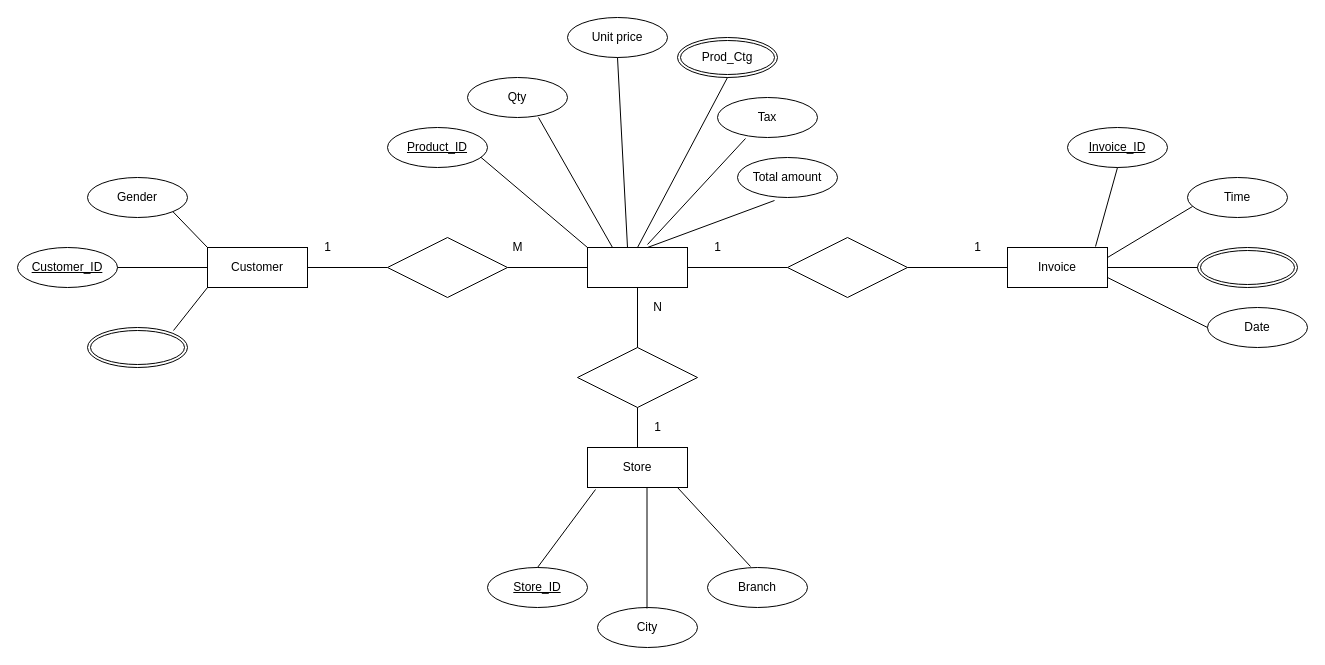
Some shapes in this 1325 by 665 pixel diagram are drawn without their labels. Each missing label, with the centre of its shape:
"Buy" belongs at [447,267].
"Cust_type" belongs at [137,347].
"HAS" belongs at [637,377].
"Payment_Method" belongs at [1247,267].
"Product" belongs at [637,267].
"Sold" belongs at [847,267].
